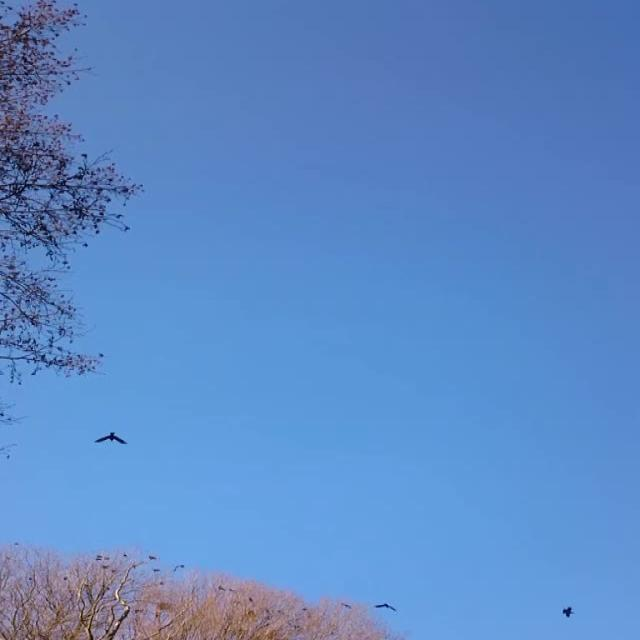bird: (93, 431, 132, 450), (373, 601, 410, 618), (549, 604, 575, 624), (337, 598, 356, 612)
